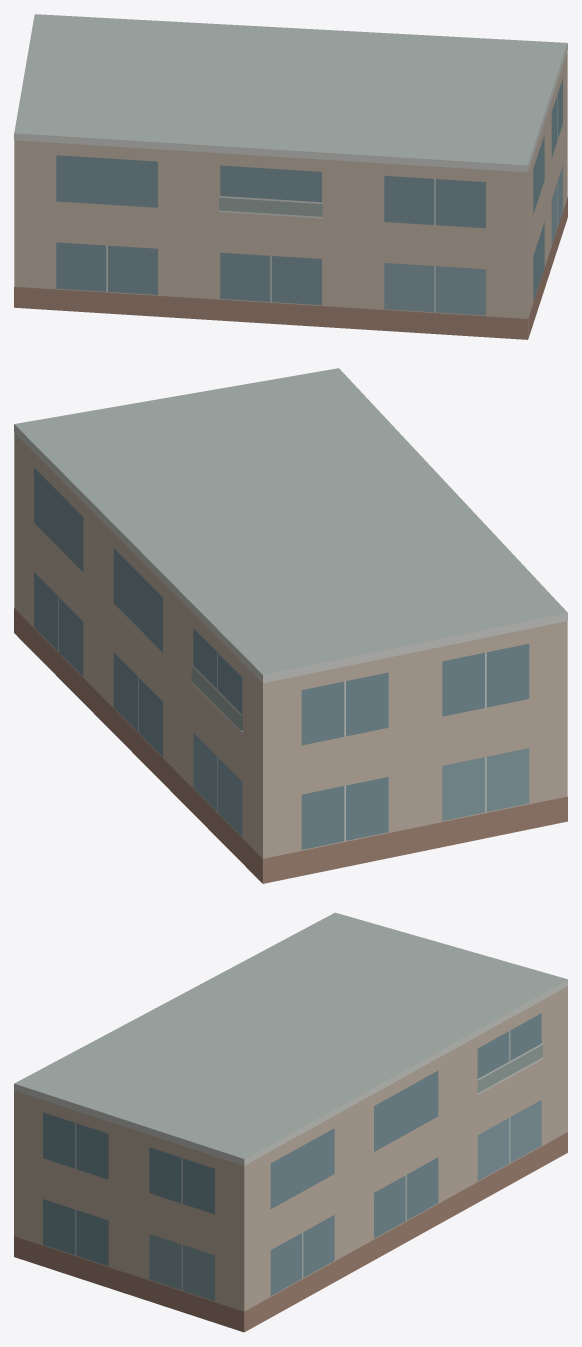
File: survey-upis-32933223.glb
The picture shows the model from 3 angles, top to bottom: view 1: azimuth 30°, elevation 25°; view 2: azimuth 150°, elevation 25°; view 3: azimuth 270°, elevation 25°; orthographic projection. The views are drawn at different scales.
Visible parts, largest first — view 1: survey-upis-32933223.tmp; view 2: survey-upis-32933223.tmp; view 3: survey-upis-32933223.tmp.
Boxes of the visible parts, bbox=[...] form: survey-upis-32933223.tmp: bbox=[14, 14, 567, 339]; survey-upis-32933223.tmp: bbox=[14, 368, 567, 883]; survey-upis-32933223.tmp: bbox=[14, 912, 567, 1332].
Bounding box in the file's own units: 18.61 × 6.1 × 17.66.
